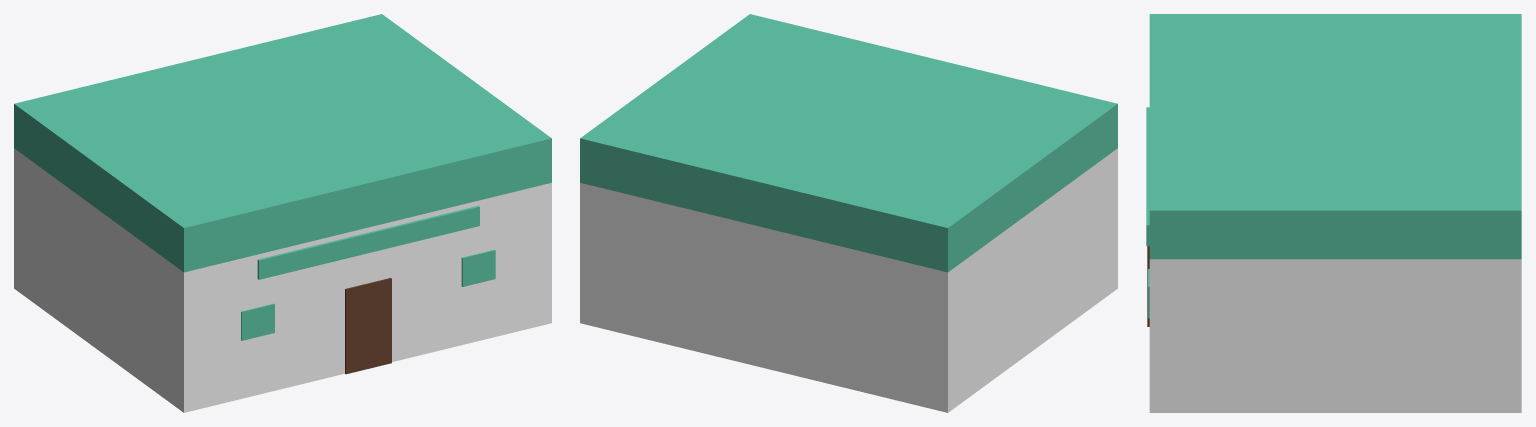
Rendered from gedung_klinik.fbx.
The picture shows the model from 3 angles, left to right: view 1: azimuth 30°, elevation 25°; view 2: azimuth 150°, elevation 25°; view 3: azimuth 270°, elevation 25°; orthographic projection. The views are drawn at different scales.
Parts seen in each view (by area): view 1: gedung_klinik; view 2: gedung_klinik; view 3: gedung_klinik.
Part boxes in pixels (x1,y1,x2,y2): gedung_klinik: [14, 14, 551, 412]; gedung_klinik: [580, 14, 1117, 412]; gedung_klinik: [1146, 14, 1521, 412].
Size of the model in its own units: 1000 by 480 by 807.
1 material, 1 textured.
